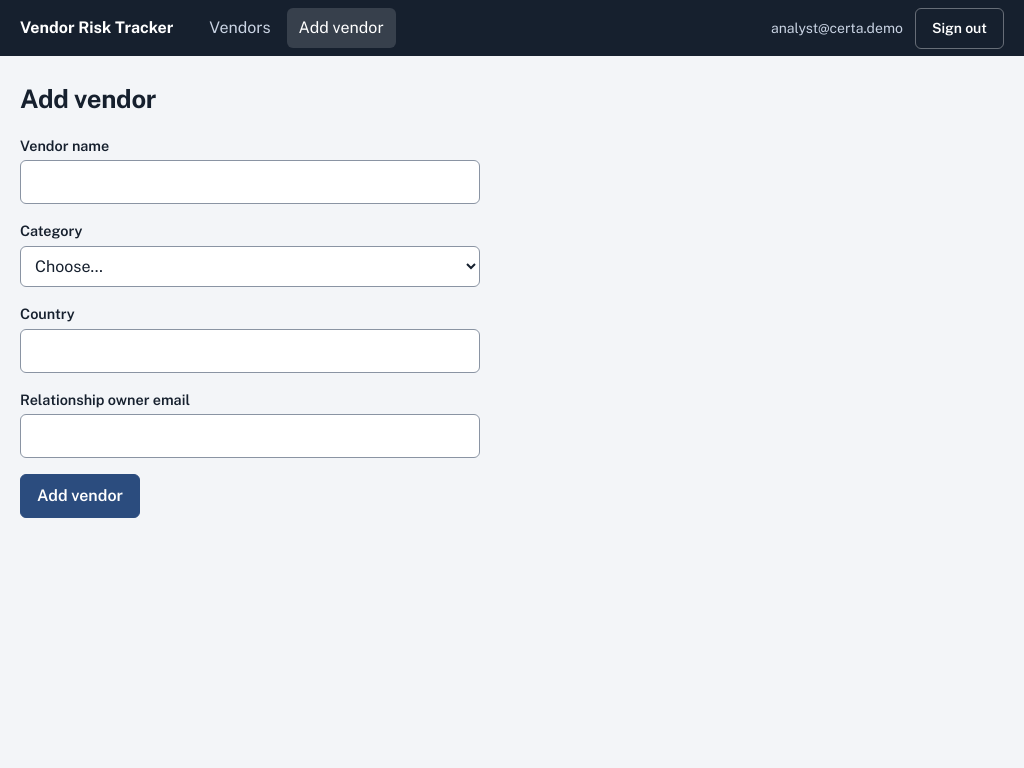
Scenario: add vendor form › shows the server’s duplicate-name error on the name field
In the field labelled "Vendor name": (250, 182) [20, 160, 480, 204], type "paybridge"
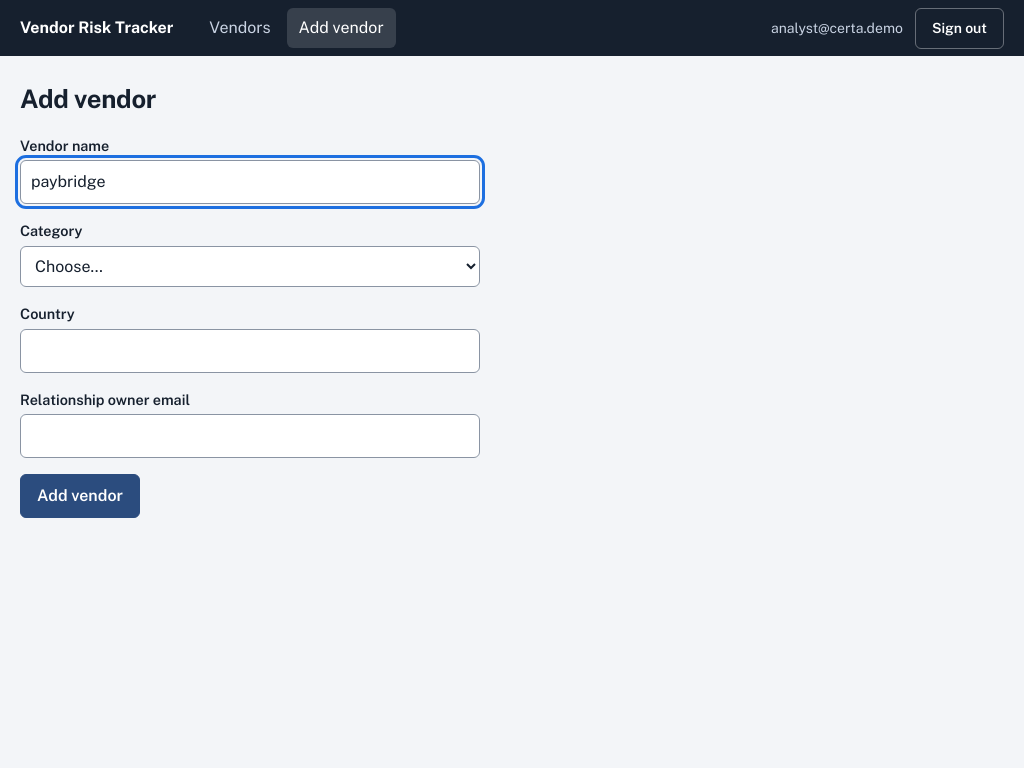
Select "Payments" in the dropdown labelled "Category": (250, 266) [20, 246, 480, 287]
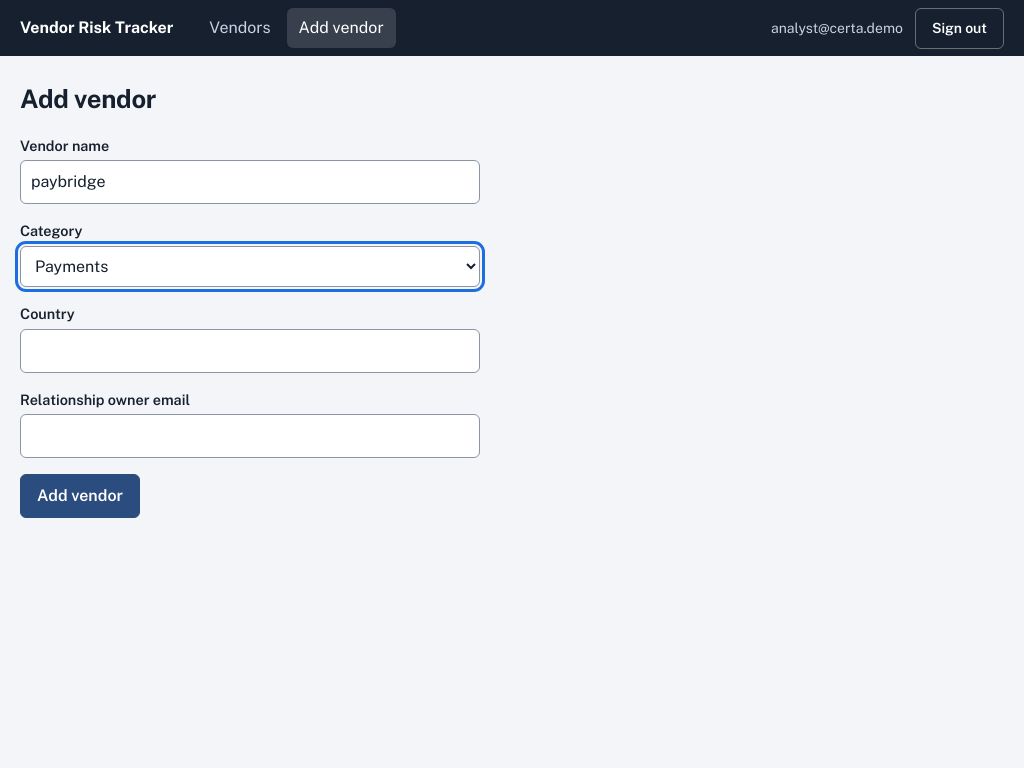
In the field labelled "Country": (250, 350) [20, 328, 480, 372], type "India"
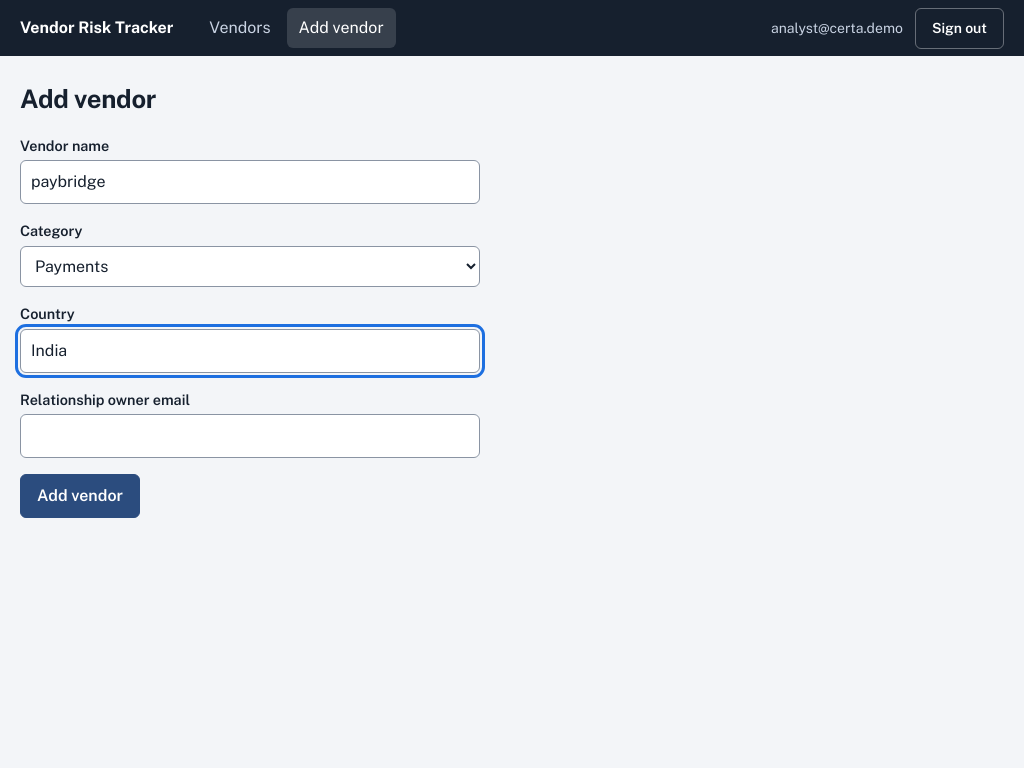
In the field labelled "Relationship owner email": (250, 436) [20, 414, 480, 458], type "me@acme.test"
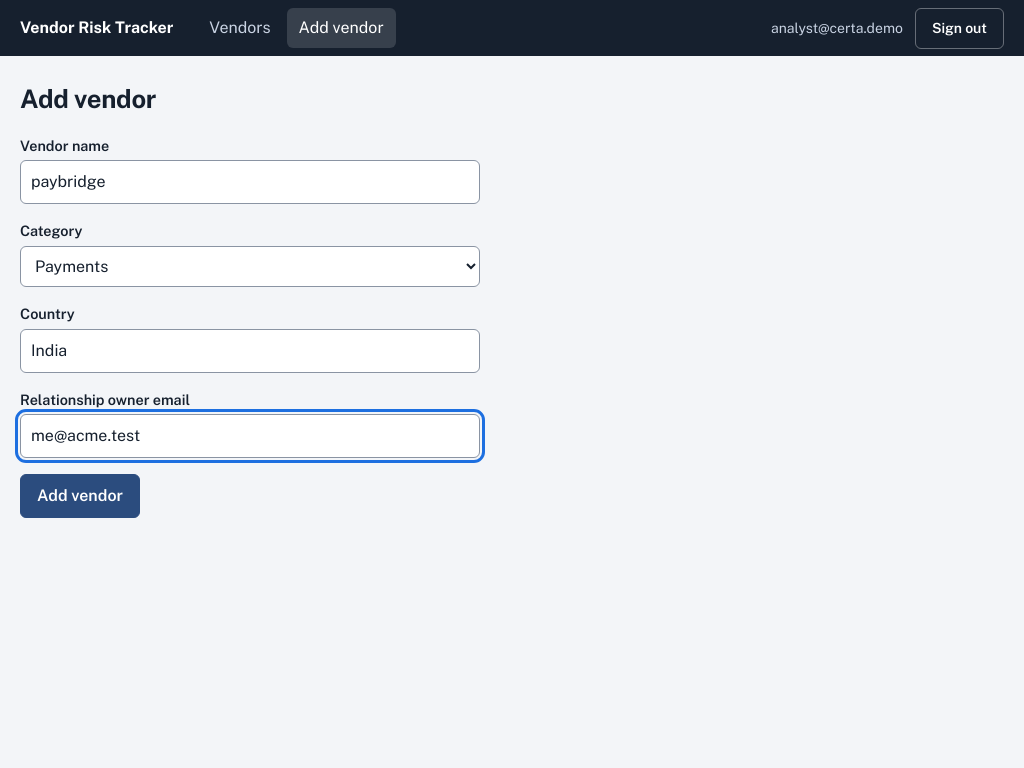
Click the button "Add vendor": (80, 496) [20, 474, 140, 518]
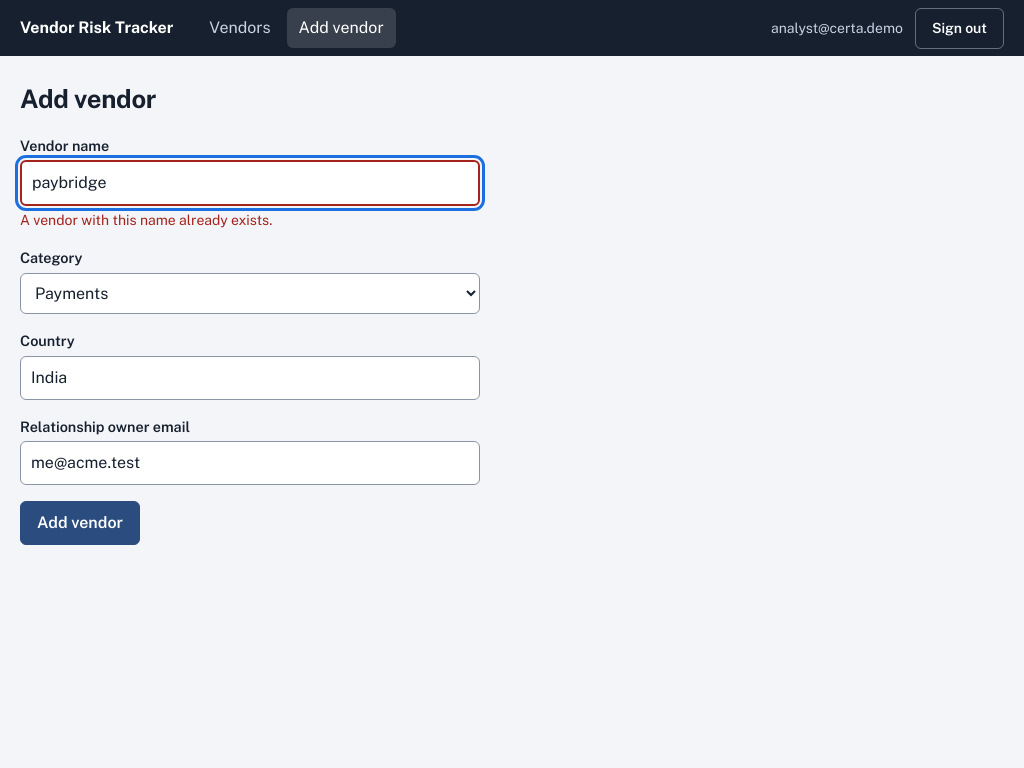
Result: the text "A vendor with this name already exists." is shown at [20, 212, 272, 228]
